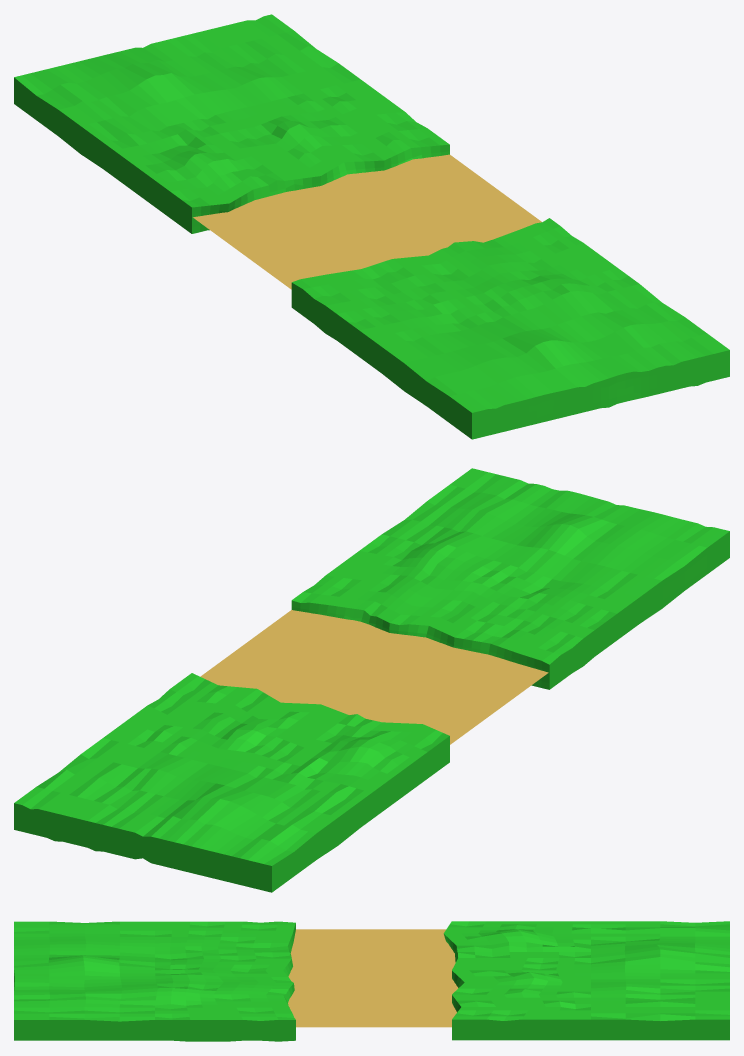
The model's file is Stage_Model.fbx.
The picture shows the model from 3 angles, top to bottom: view 1: azimuth 30°, elevation 25°; view 2: azimuth 150°, elevation 25°; view 3: azimuth 270°, elevation 25°; orthographic projection. The views are drawn at different scales.
Parts seen in each view (by area): view 1: 草原, 草原.001, 道; view 2: 草原.001, 草原, 道; view 3: 草原, 草原.001, 道.
Boxes of the visible parts, x1=… form: 草原: x1=291, y1=218, x2=729, y2=439; 草原.001: x1=14, y1=14, x2=449, y2=233; 道: x1=193, y1=154, x2=541, y2=289; 草原.001: x1=14, y1=673, x2=449, y2=892; 草原: x1=291, y1=468, x2=729, y2=689; 道: x1=200, y1=610, x2=548, y2=744; 草原: x1=14, y1=921, x2=295, y2=1041; 草原.001: x1=443, y1=921, x2=729, y2=1040; 道: x1=288, y1=929, x2=458, y2=1027.
Bounding box in the file's own units: 660 × 108 × 2031.
